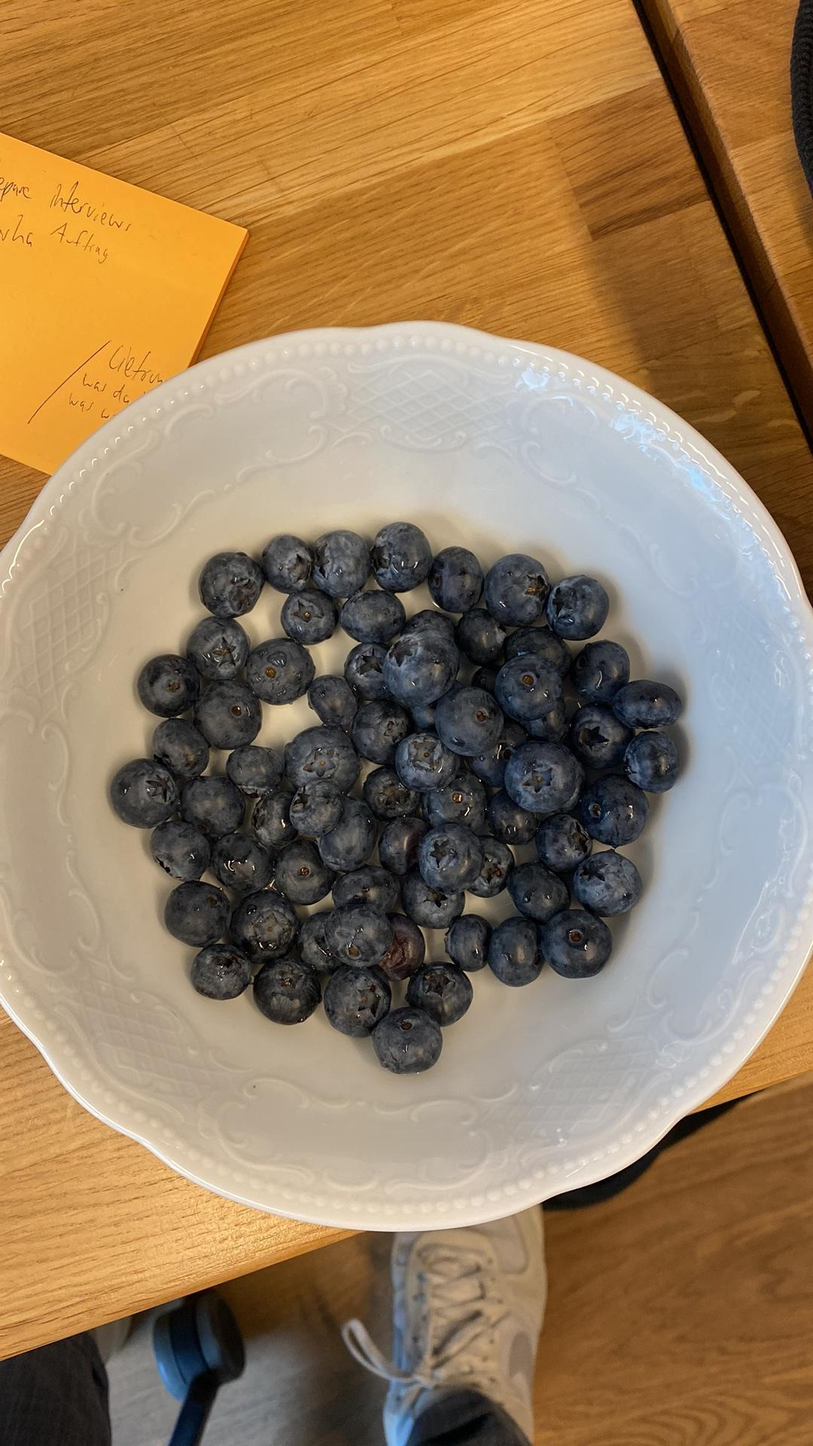blueberry: (505, 737, 587, 817), (431, 680, 510, 757), (379, 627, 458, 703), (221, 886, 300, 962), (540, 905, 615, 981), (576, 775, 653, 849), (485, 910, 553, 991), (107, 752, 180, 827), (287, 727, 359, 797), (423, 775, 501, 839), (373, 1008, 445, 1077), (194, 677, 264, 747), (569, 855, 648, 917), (209, 828, 278, 898), (269, 836, 336, 908), (415, 830, 489, 895), (197, 549, 266, 618), (483, 551, 548, 624), (323, 900, 400, 961), (164, 879, 233, 946), (176, 769, 246, 835), (145, 818, 215, 884), (251, 962, 324, 1025), (322, 968, 391, 1034), (369, 518, 431, 591), (183, 616, 252, 679), (184, 943, 256, 1003), (498, 652, 564, 717), (373, 815, 437, 882), (348, 698, 416, 761), (547, 574, 609, 642), (317, 802, 378, 871), (137, 649, 200, 715), (395, 872, 470, 927), (244, 639, 315, 697), (399, 732, 463, 795), (312, 528, 369, 598), (150, 708, 207, 777), (428, 543, 484, 613), (574, 702, 630, 772), (572, 634, 635, 696), (625, 728, 682, 795), (408, 961, 467, 1025), (328, 865, 404, 914), (507, 863, 571, 921), (530, 812, 593, 870), (341, 586, 402, 643), (303, 670, 361, 729), (483, 793, 543, 850), (373, 911, 423, 978), (361, 766, 424, 819), (614, 679, 683, 727), (344, 638, 396, 701), (286, 775, 341, 834), (260, 532, 314, 592), (225, 741, 285, 795), (461, 833, 513, 895), (442, 915, 495, 972), (250, 786, 297, 850), (498, 626, 576, 664), (282, 587, 333, 638), (458, 610, 504, 663), (297, 899, 328, 967), (404, 613, 463, 636)
